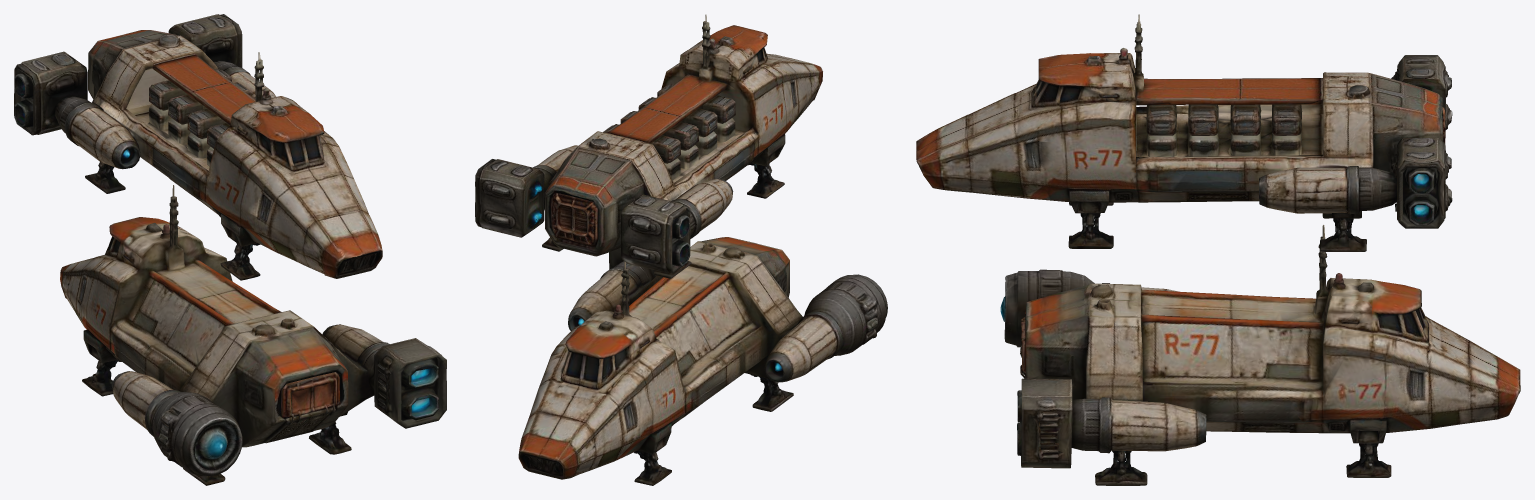
The model's file is rook_twinboom.glb.
The picture shows the model from 3 angles, left to right: view 1: azimuth 30°, elevation 25°; view 2: azimuth 150°, elevation 25°; view 3: azimuth 270°, elevation 25°; orthographic projection. The views are drawn at different scales.
Visible parts, largest first — view 1: tripo_node_a857f166-ab3a-4f89-8380-a9e61ac33bba; view 2: tripo_node_a857f166-ab3a-4f89-8380-a9e61ac33bba; view 3: tripo_node_a857f166-ab3a-4f89-8380-a9e61ac33bba.
Boxes of the visible parts, <box> form: tripo_node_a857f166-ab3a-4f89-8380-a9e61ac33bba: <box>14,14,446,485</box>; tripo_node_a857f166-ab3a-4f89-8380-a9e61ac33bba: <box>475,14,887,485</box>; tripo_node_a857f166-ab3a-4f89-8380-a9e61ac33bba: <box>916,14,1520,485</box>.
Size of the model in its own units: 0.5692 by 0.7923 by 0.9996.
1 material, 1 textured.
